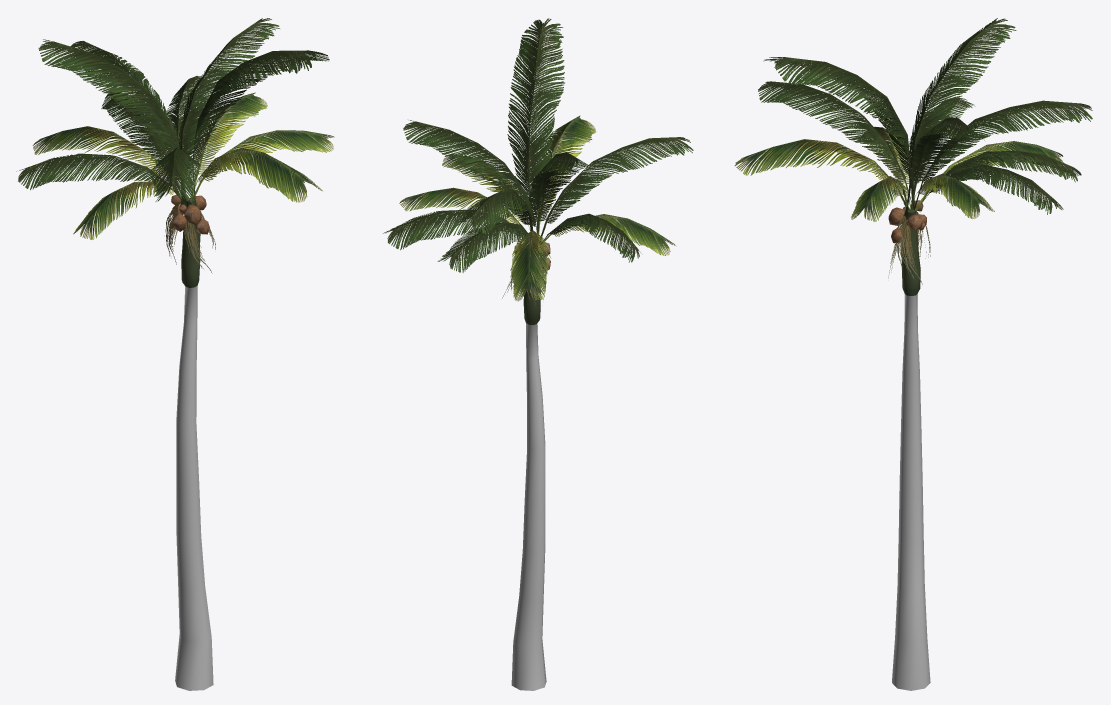
Rendered from kiV3_LOD0.fbx.
3 views of the same model, side by side, from view 1: azimuth 30°, elevation 25°; view 2: azimuth 150°, elevation 25°; view 3: azimuth 270°, elevation 25° (orthographic). The views are drawn at different scales.
Visible parts, largest first — view 1: Mesh Object; view 2: Mesh Object; view 3: Mesh Object.
Part boxes in pixels (x1=…): Mesh Object: x1=16, y1=18, x2=334, y2=690; Mesh Object: x1=383, y1=18, x2=693, y2=690; Mesh Object: x1=734, y1=18, x2=1092, y2=690.
Size of the model in its own units: 22.12 by 51.27 by 26.14.
